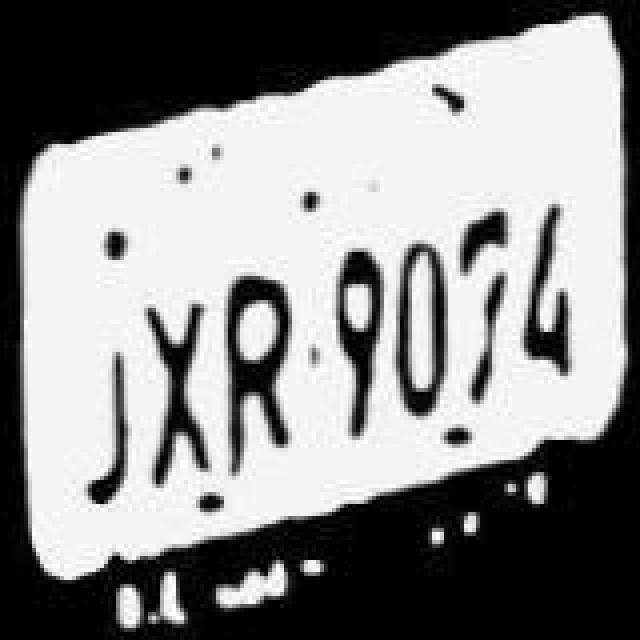4: (516, 184, 584, 416)
7: (450, 182, 522, 422)
9: (318, 250, 390, 478)
J: (64, 316, 136, 524)
O: (384, 218, 452, 442)
R: (214, 258, 302, 490)
X: (140, 282, 220, 506)
